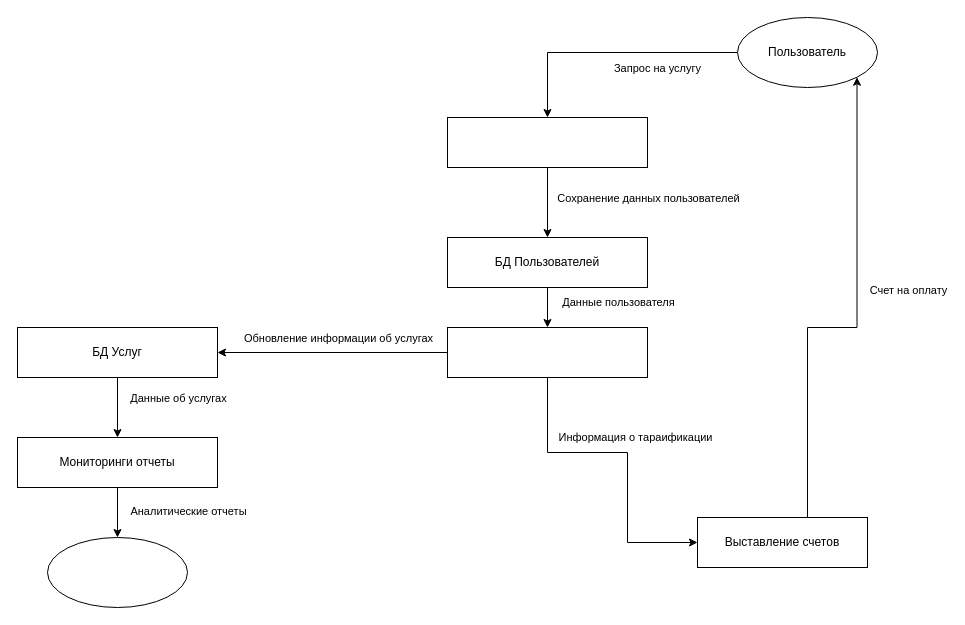
This 965x625 diagram has some shape labels left out. Each missing label, with the centre of its shape:
"Администратор" belongs at point 117,572.
"Обработка запросов пользователей" belongs at point 547,142.
"Управление услугами" belongs at point 547,352.
